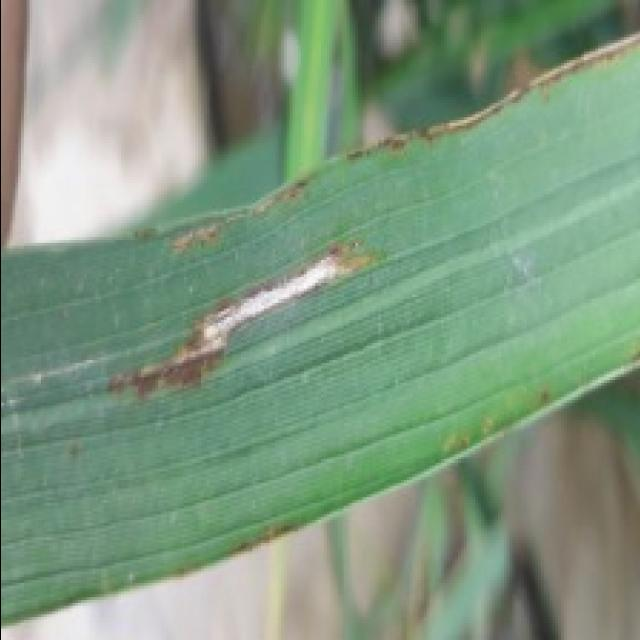Unhealthy: (103, 239, 382, 401), (339, 29, 640, 165), (0, 350, 133, 391), (247, 166, 319, 218), (229, 521, 312, 558), (169, 211, 238, 255), (440, 433, 473, 453), (479, 414, 494, 442), (536, 386, 550, 409)
